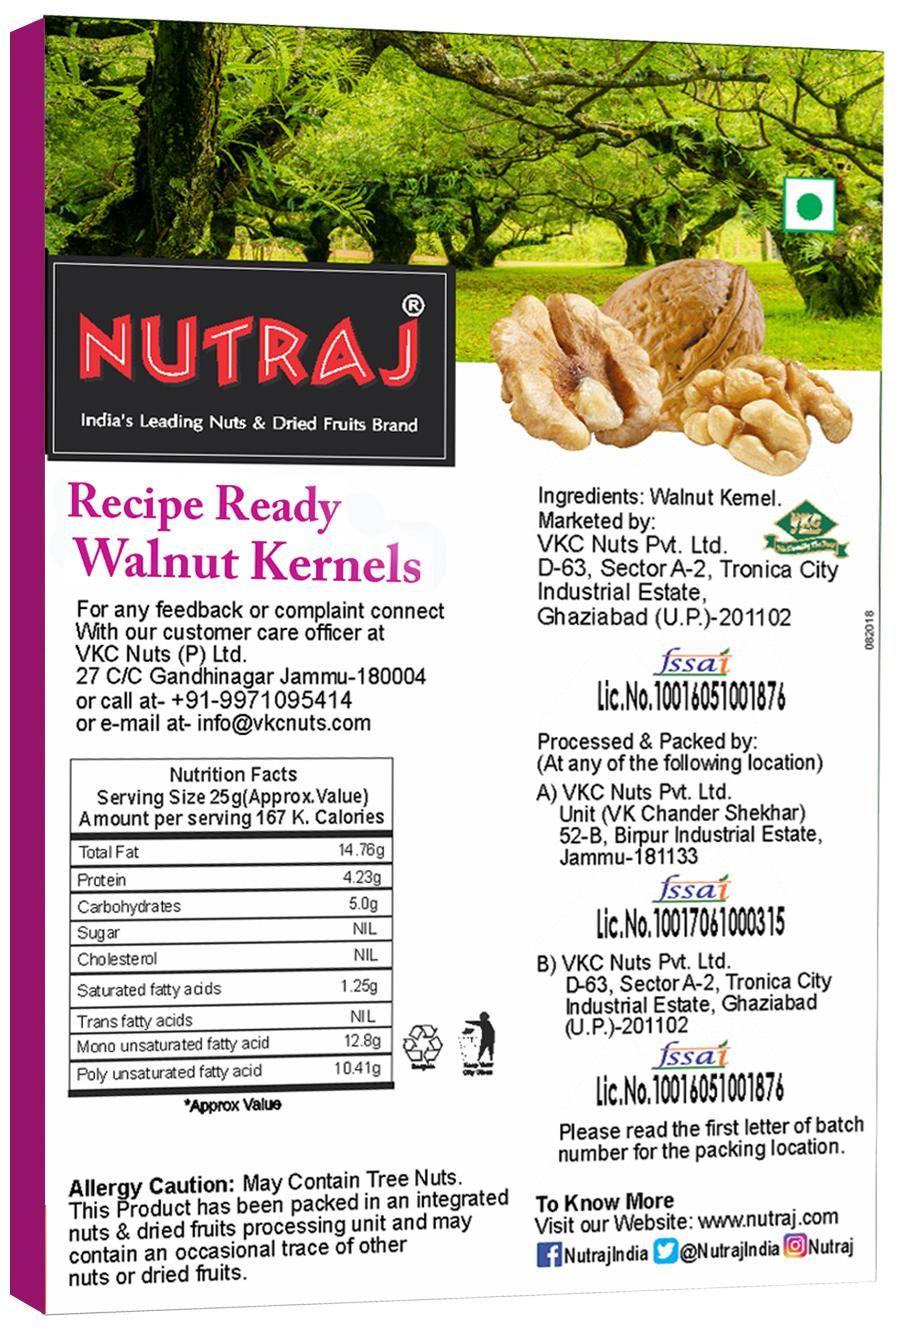fssai: (651, 646, 732, 677), (651, 873, 732, 903), (650, 1040, 727, 1070)
